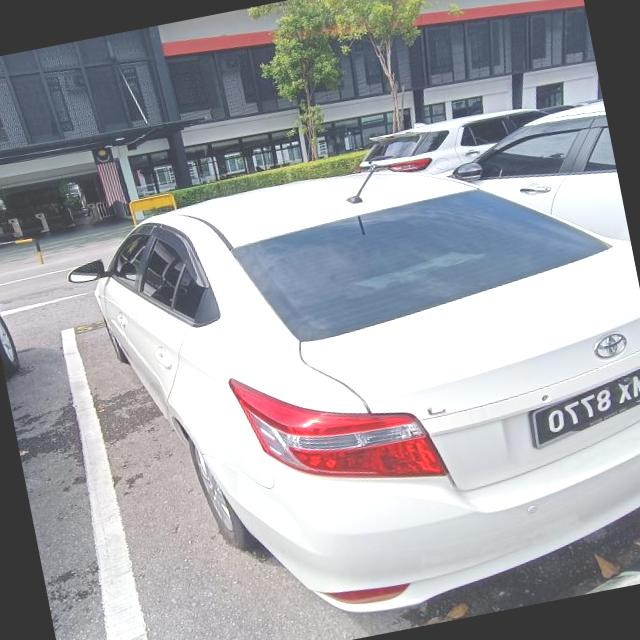ToyotaVios: (57, 117, 640, 640)
